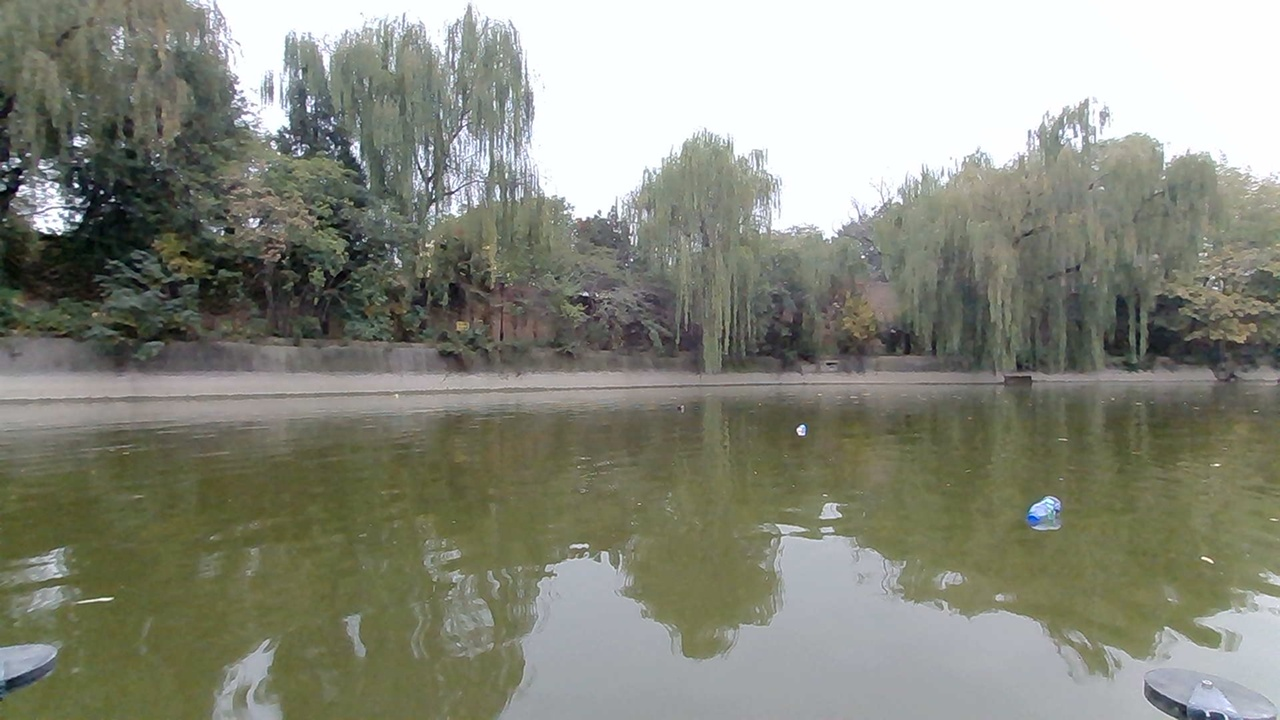bottle: (1015, 487, 1073, 537), (782, 411, 821, 440), (667, 395, 695, 421)
